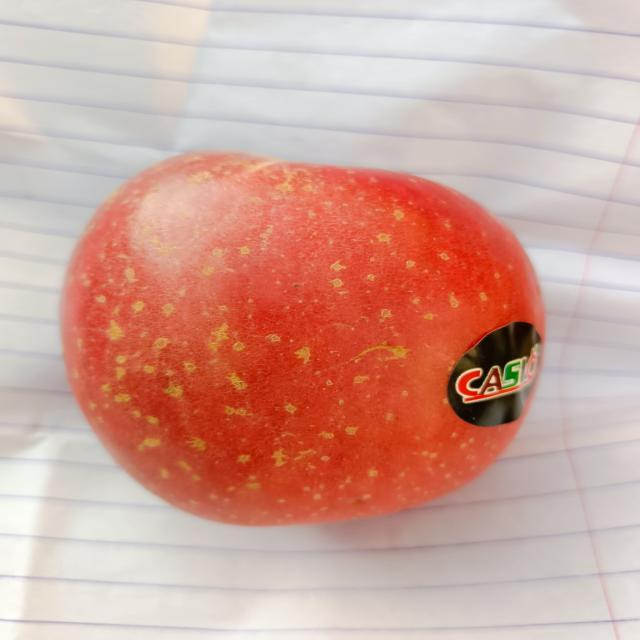Fresh Apple: (53, 144, 543, 536)
